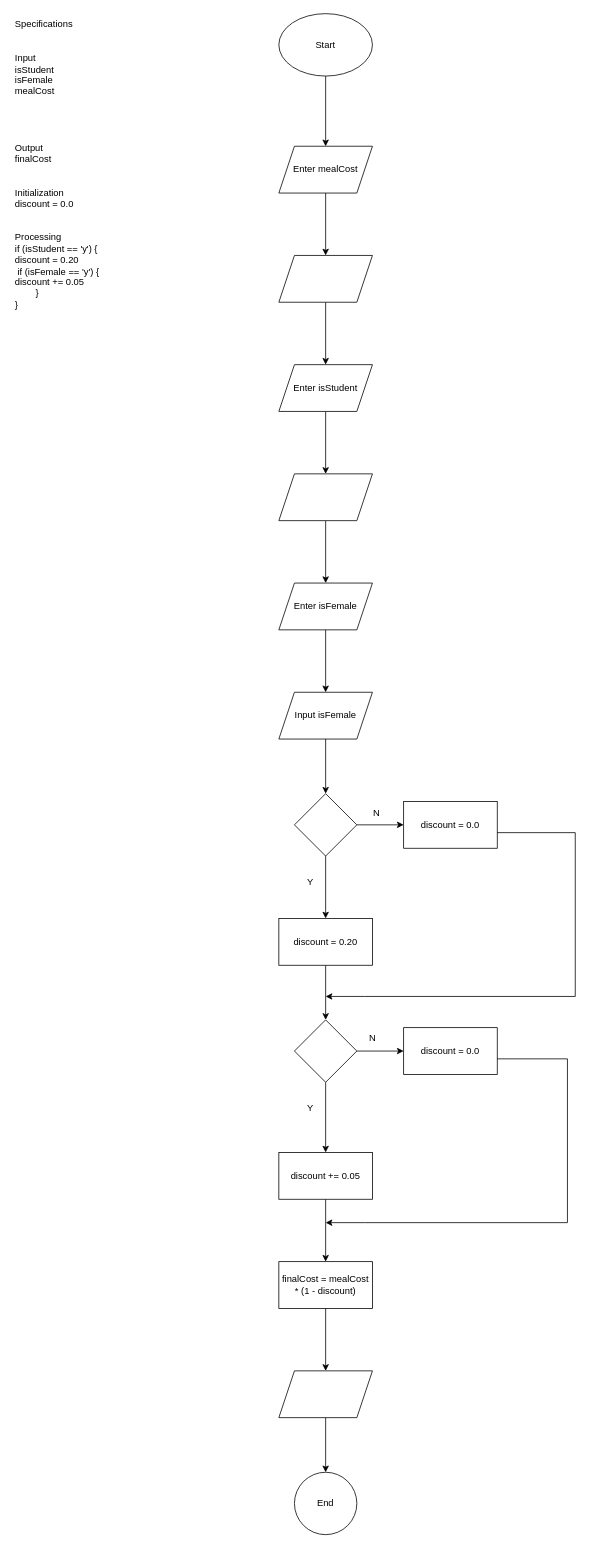
This 590x1548 diagram has some shape labels left out. The shapes that lost their labels are listed below. From the top down, each one's box as (x1, y1, x2, y2) in pixels, then its label:
(278, 255, 372, 302): Input mealCost
(278, 473, 372, 521): Input isStudent
(294, 793, 357, 856): if (isStudent)
(294, 1019, 357, 1082): if (isFemale)
(278, 1370, 372, 1418): Print finalCost
